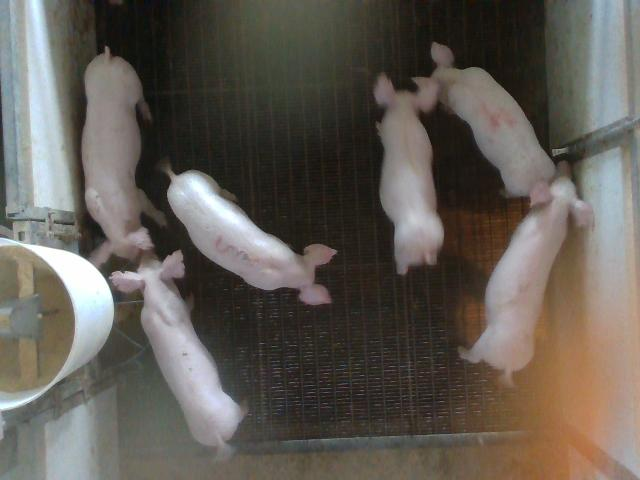pig-3: (162, 164, 336, 304)
pig-4: (431, 42, 555, 199)
